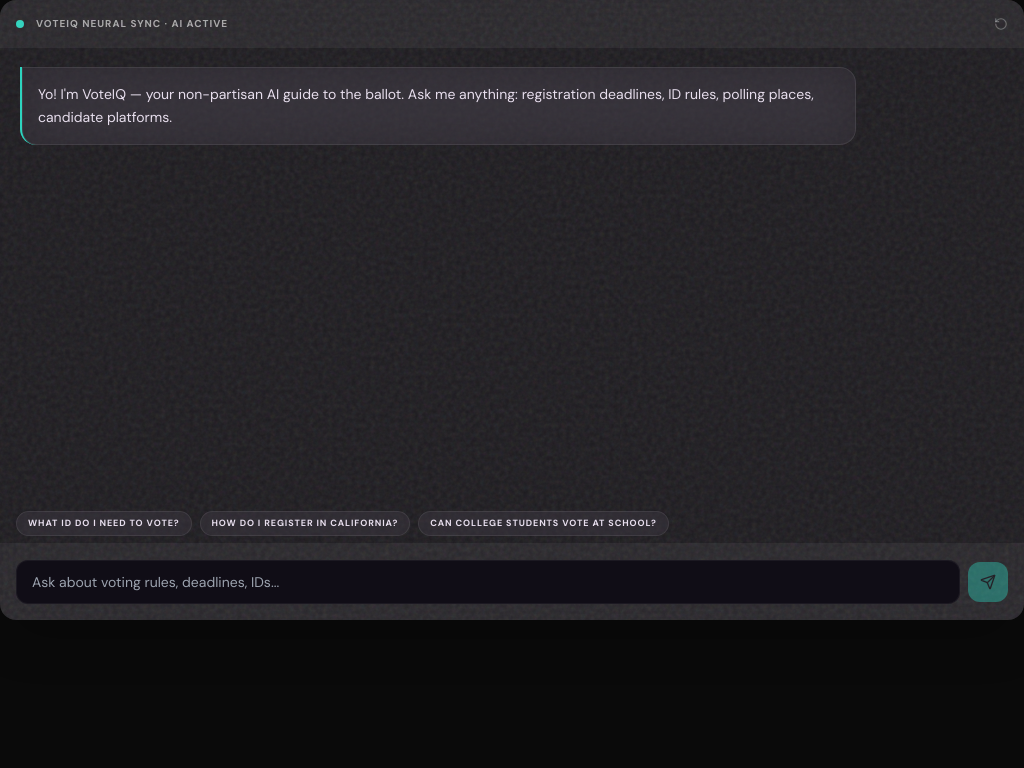
ChatAssistant component › reset behaviour › reset clears messages to only the greeting
The width and height of the screenshot is (1024, 768).
Type "Question?" into the field with placeholder "Ask about voting rules, deadlines, IDs...".
click(488, 582); type("Question?")  # box [16,560,960,604]
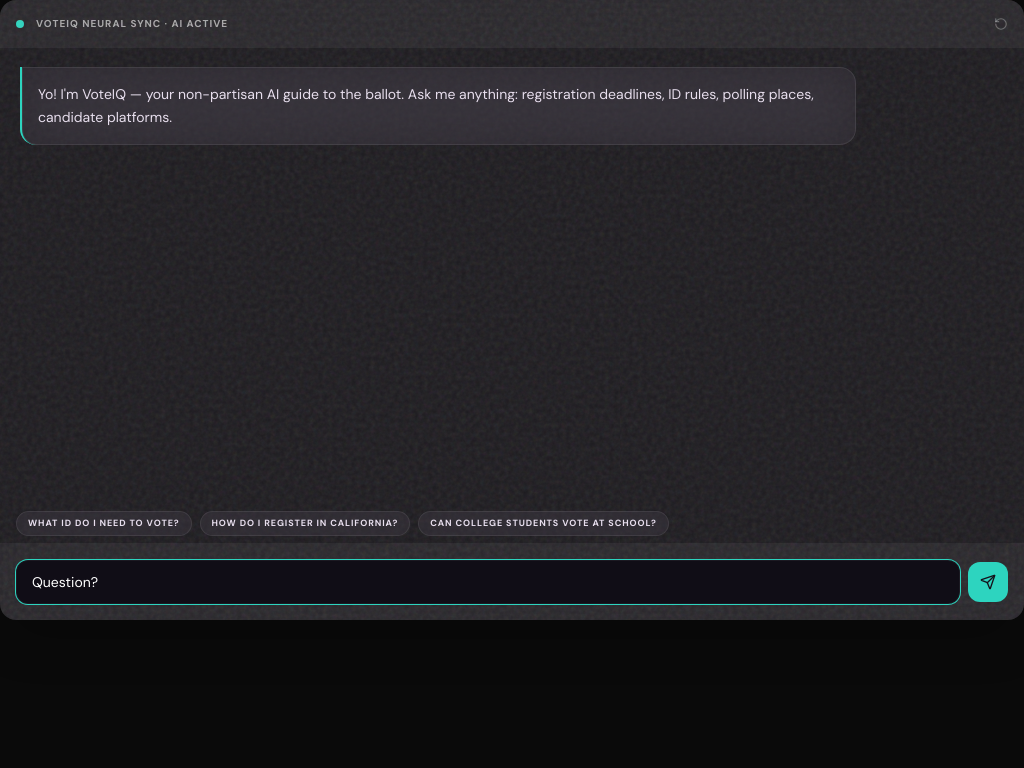
Submit the form with placeholder "Ask about voting rules", box [16,560,1008,604]
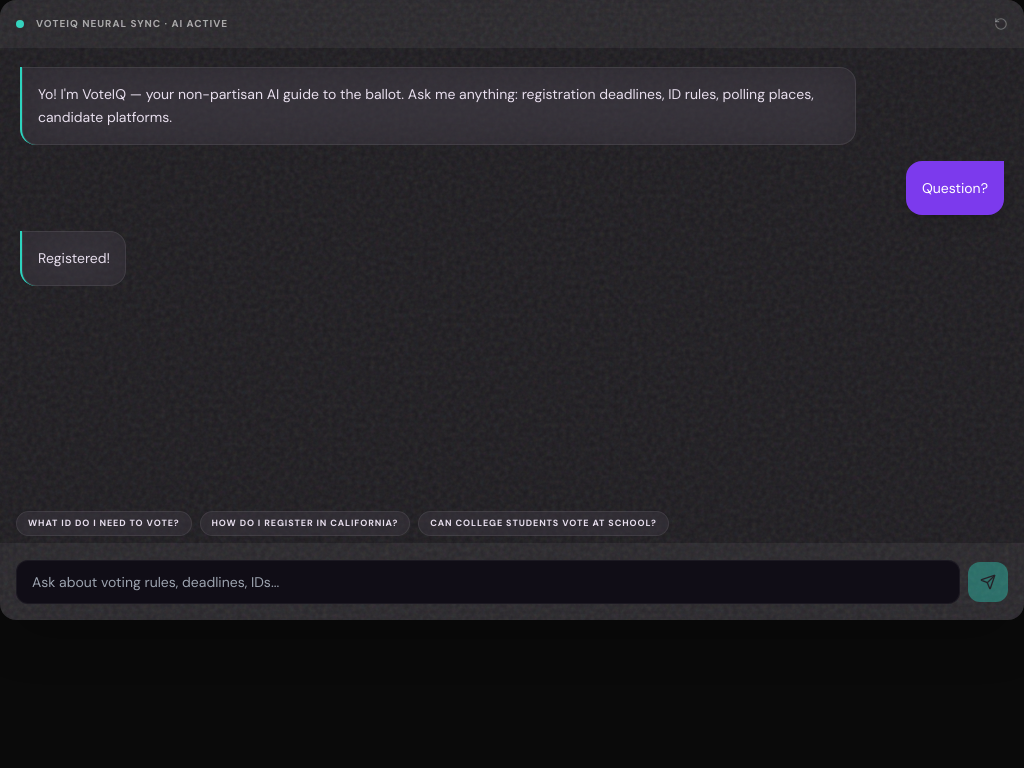
Check: the text "Registered!" is shown, box [20,231,126,286]
Click the button named "Reset conversation".
click(1001, 24)  # box [994,16,1008,30]
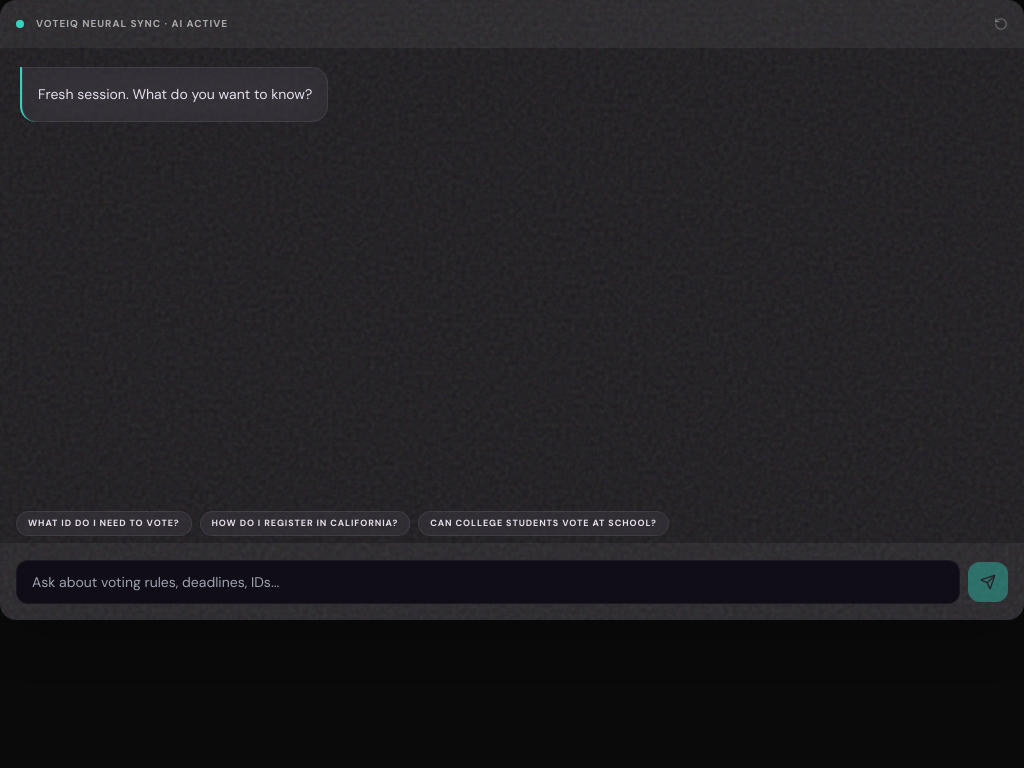
Check: the text "Registered!" is gone
